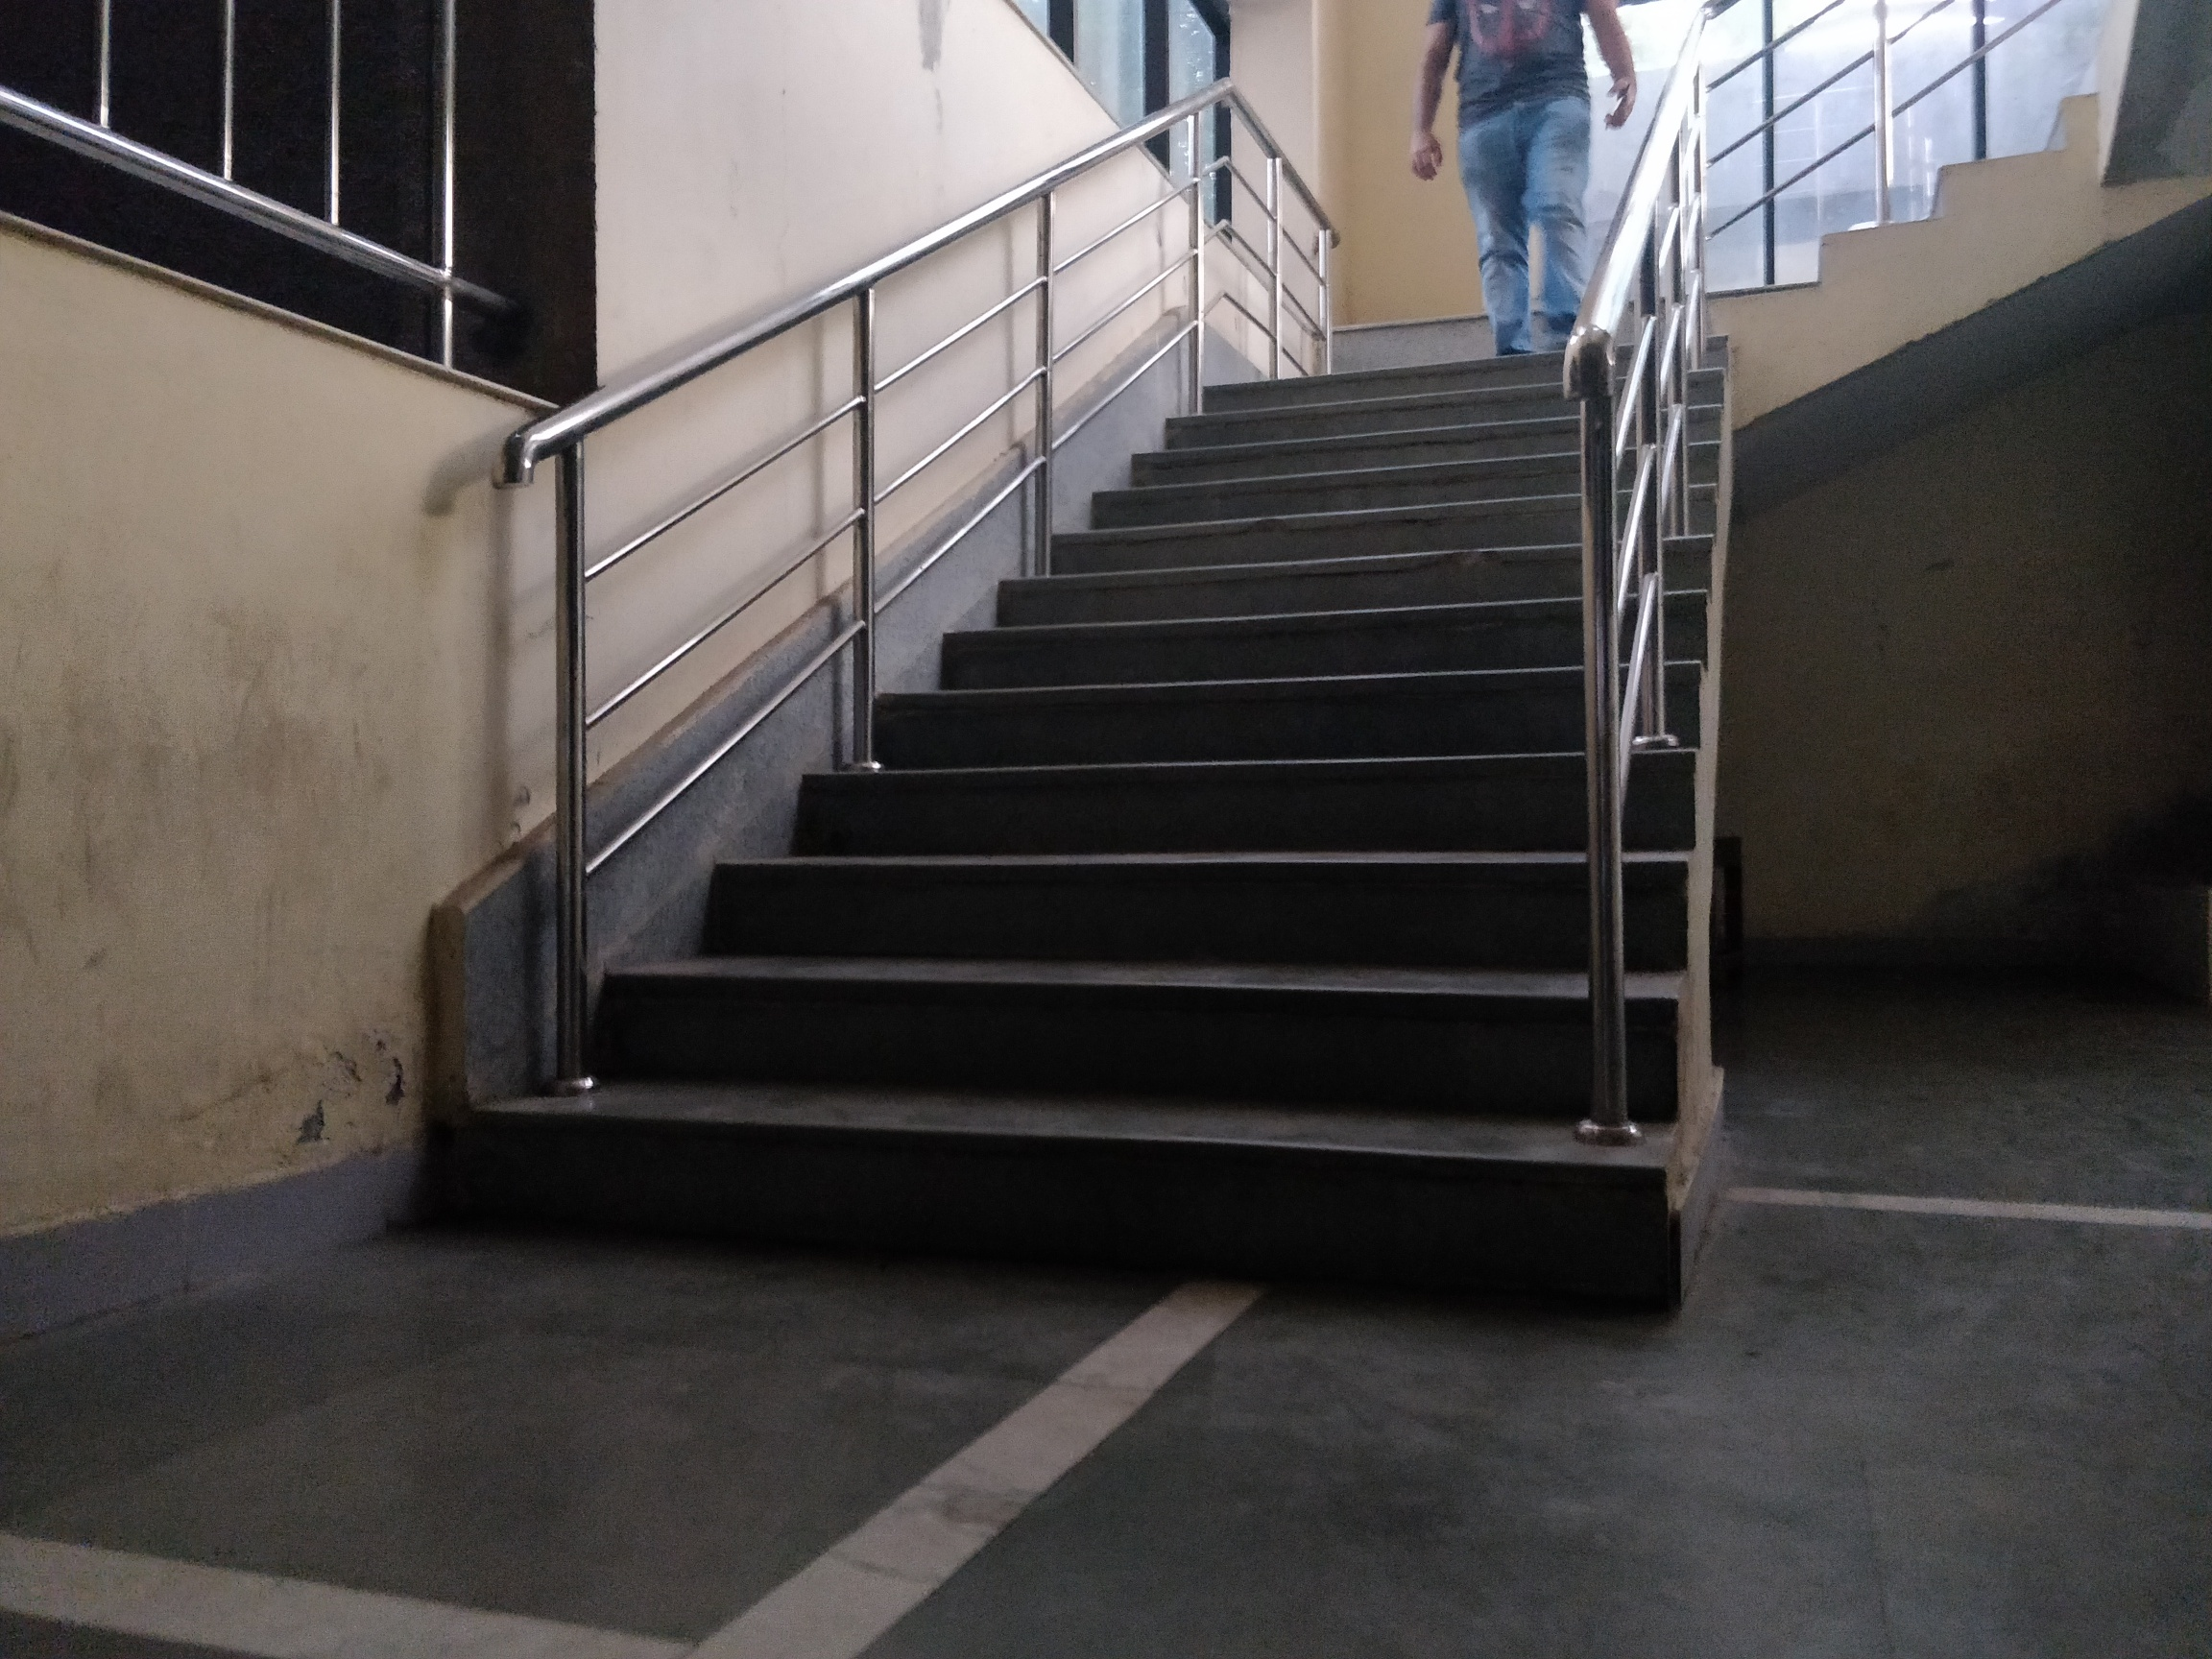stairs_up: (456, 350, 1717, 1288)
